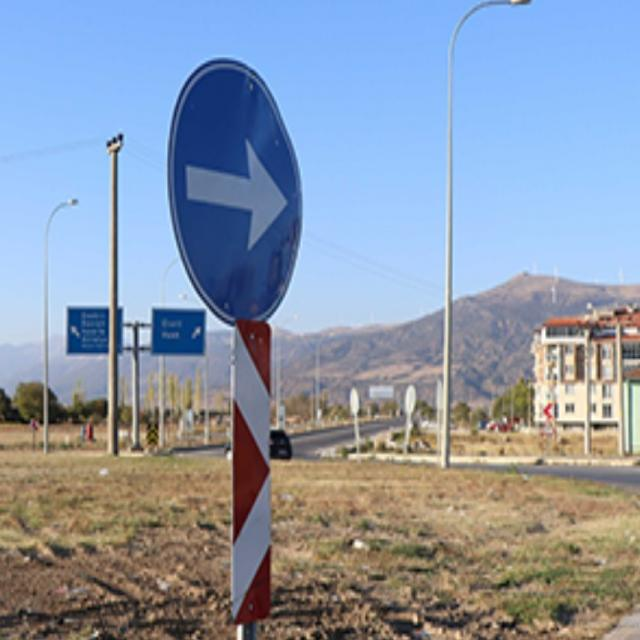Turn Right: (165, 67, 298, 331)
